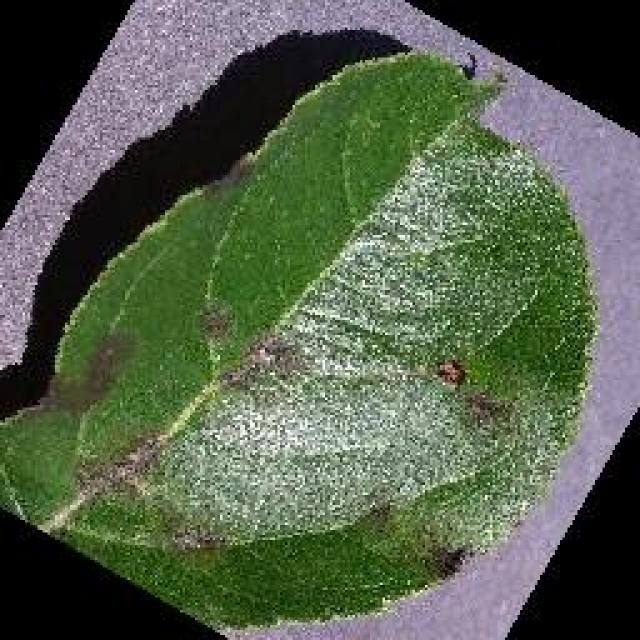apple scab disease: (0, 43, 600, 635)
